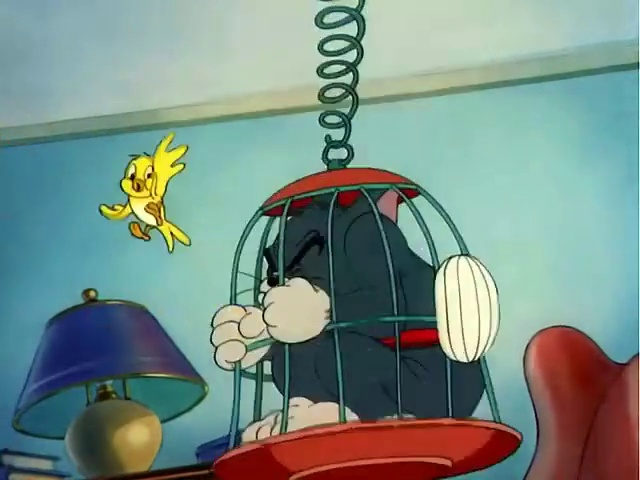tom: (210, 169, 508, 449)
